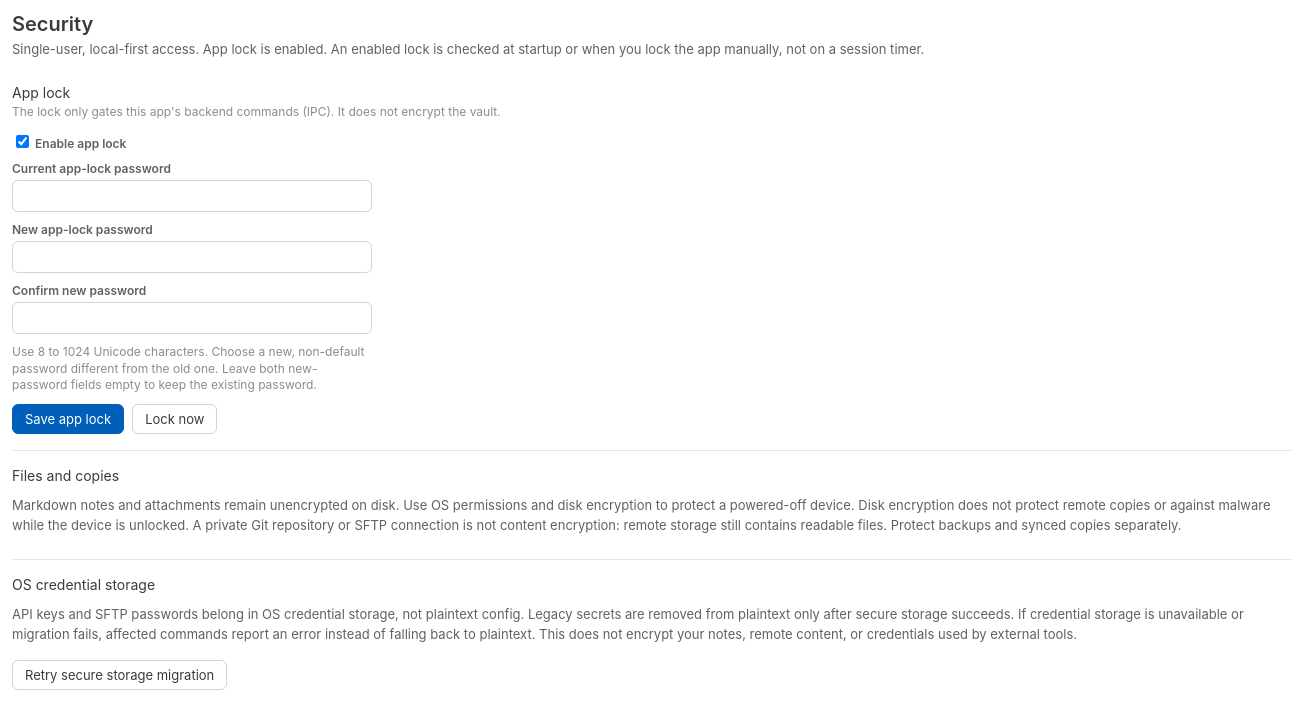
Test: Security app lock › validates new passwords and displays backend configuration errors without losing access
In the password field labelled "Current app-lock password": (192, 196) [12,180,372,212], type "existing-password"
In the password field labelled "New app-lock password": (192, 257) [12,241,372,273], type "short"
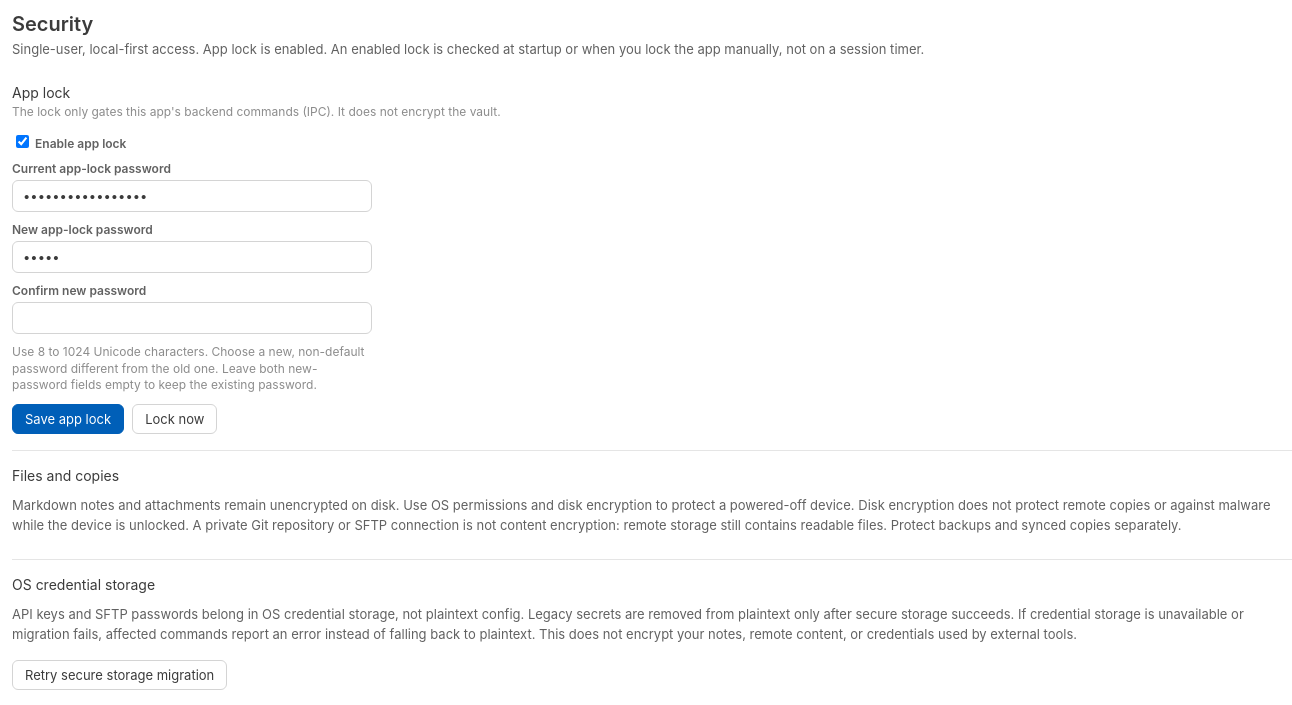
In the password field labelled "Confirm new password": (192, 318) [12,302,372,334], type "short"
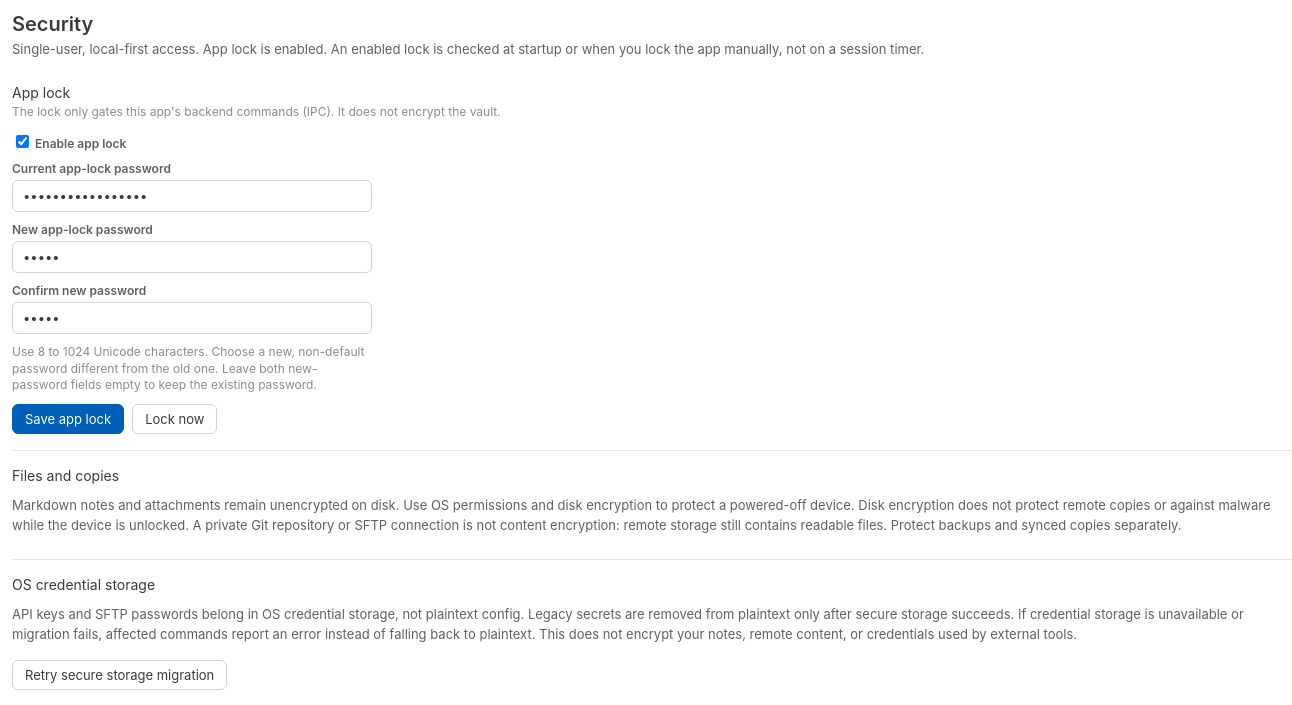
Click the button "Save app lock": (68, 419) [12,404,124,434]
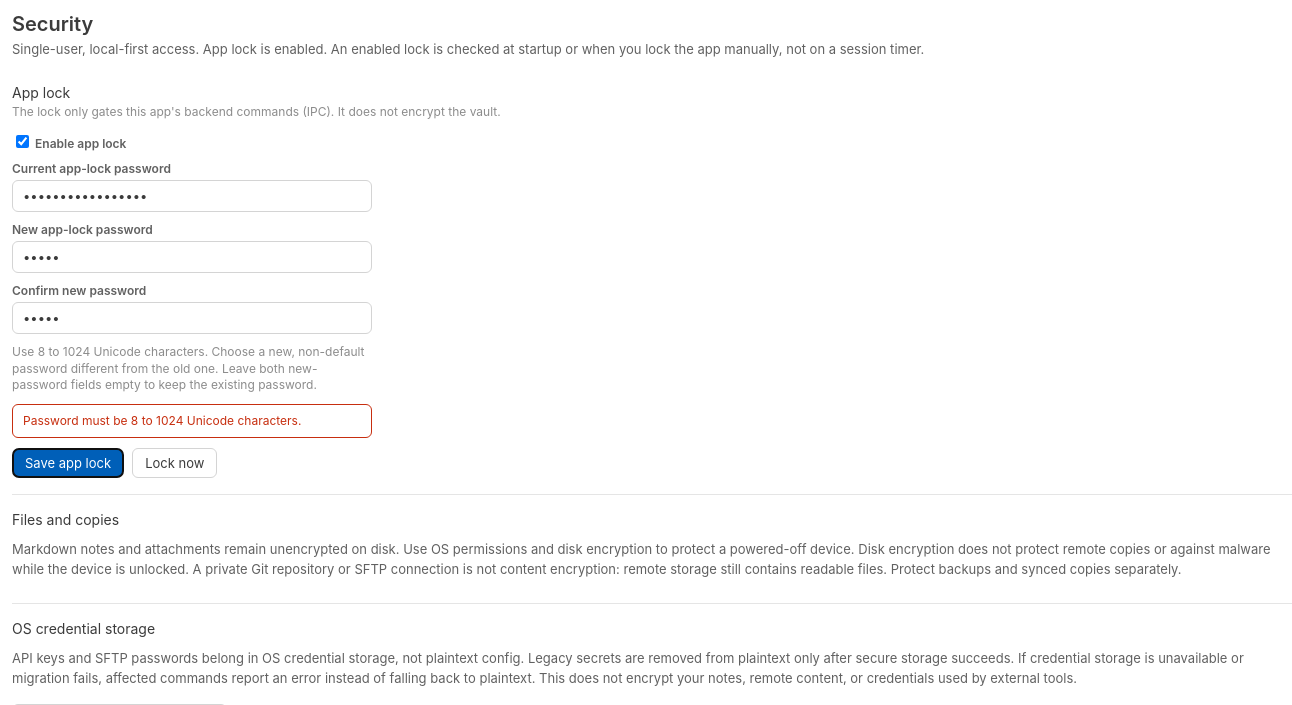
Check: the message shows "8 to 1024", box [23,413,301,428]
In the password field labelled "New app-lock password": (192, 257) [12,241,372,273], type "new-password"
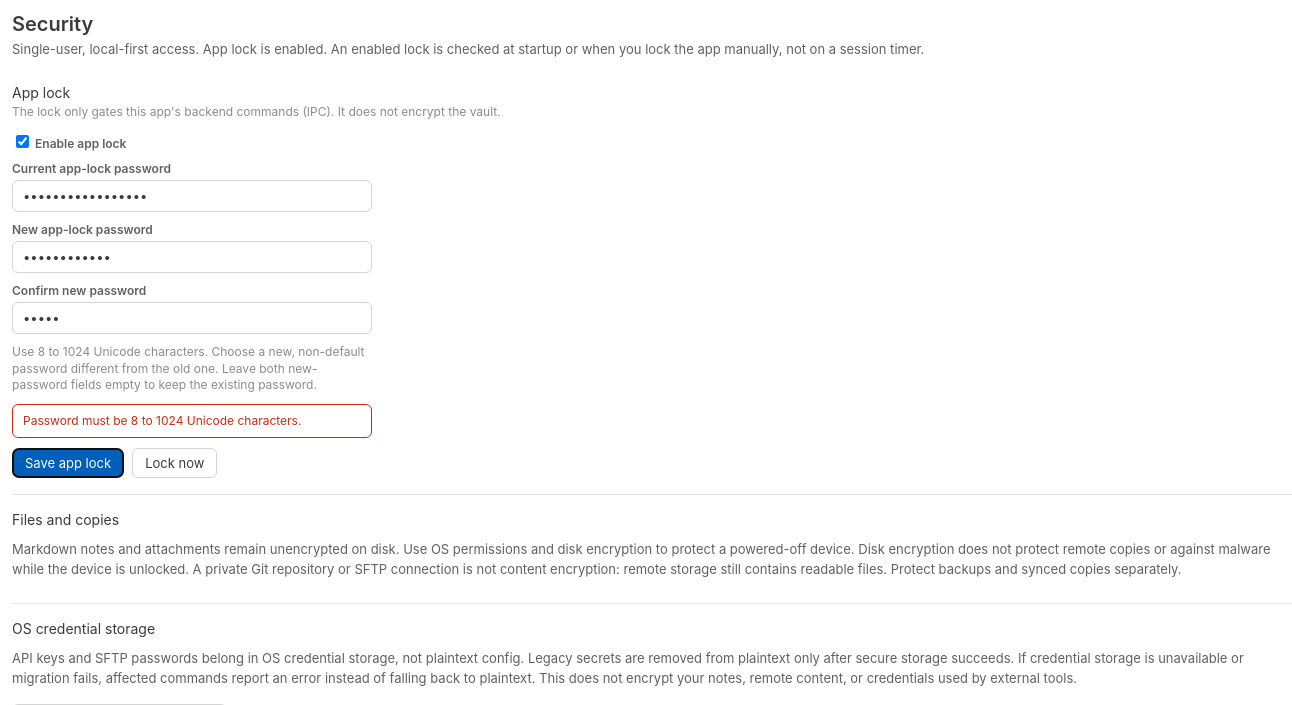
In the password field labelled "Confirm new password": (192, 318) [12,302,372,334], type "new-password"
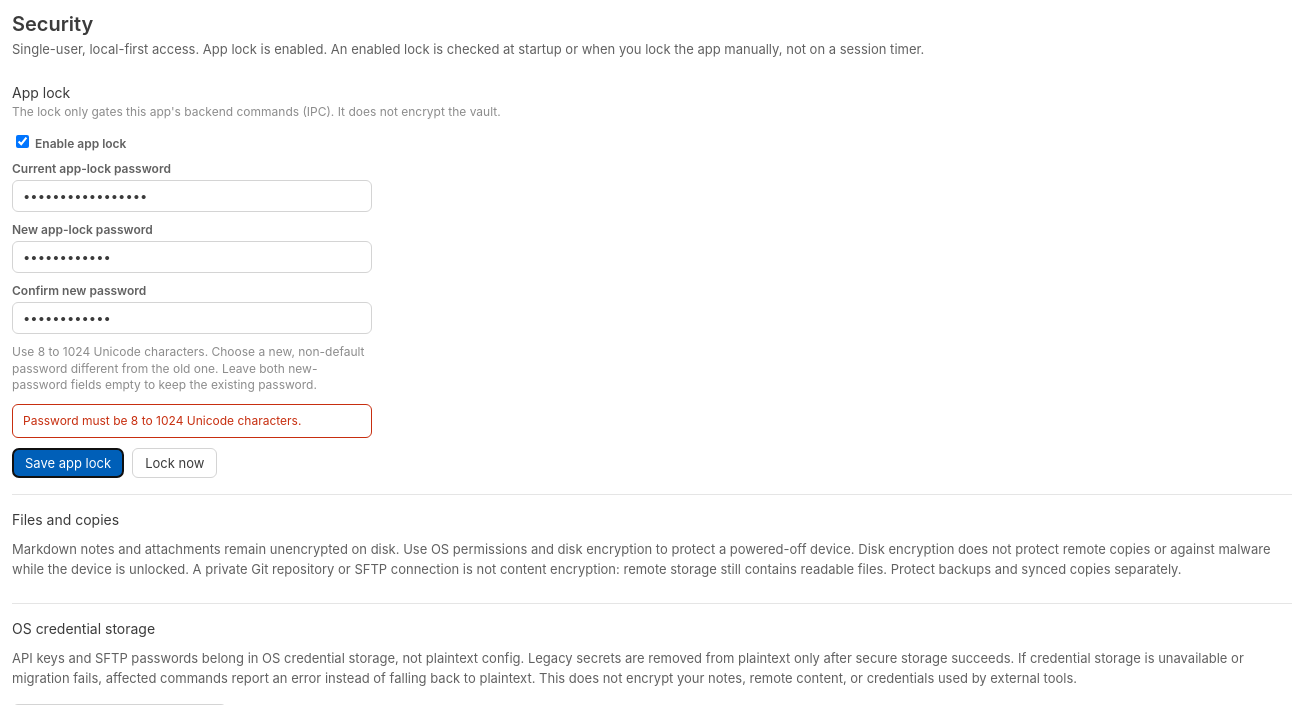
Click the button "Save app lock": (68, 464) [12,448,124,478]
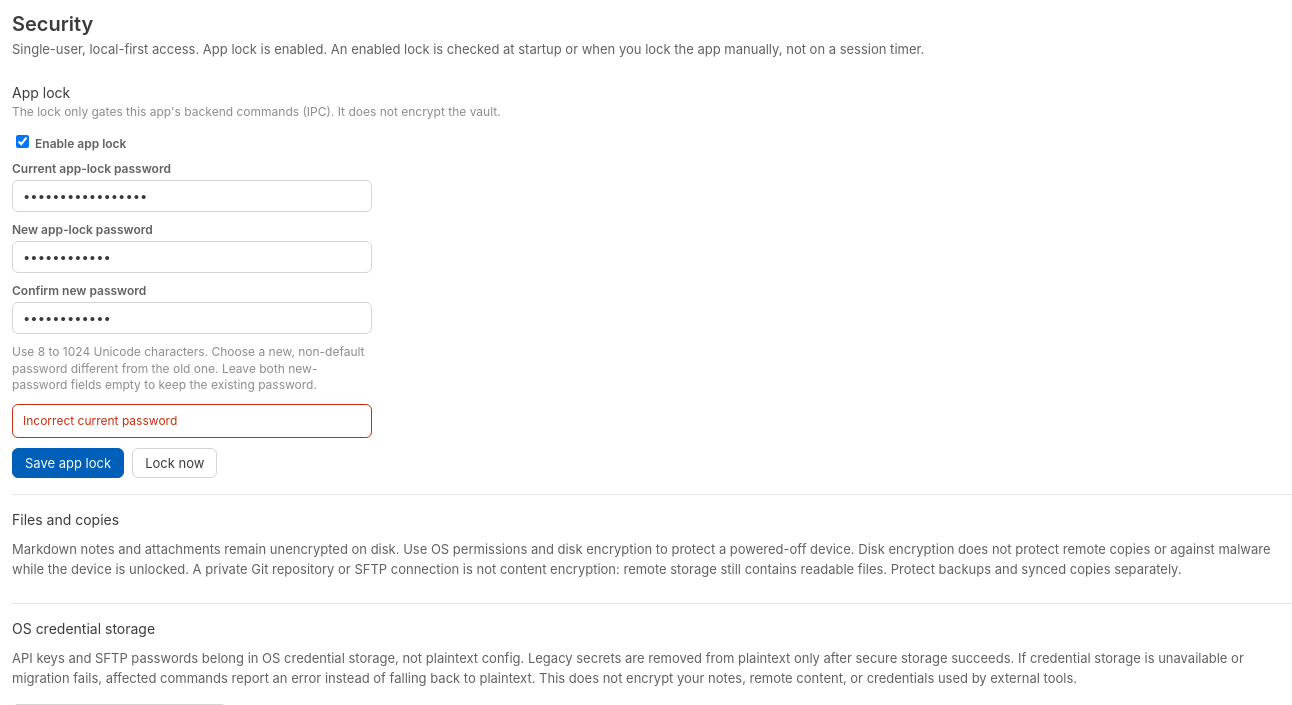
Check: the message reads "Incorrect current password", box [23,413,177,428]
